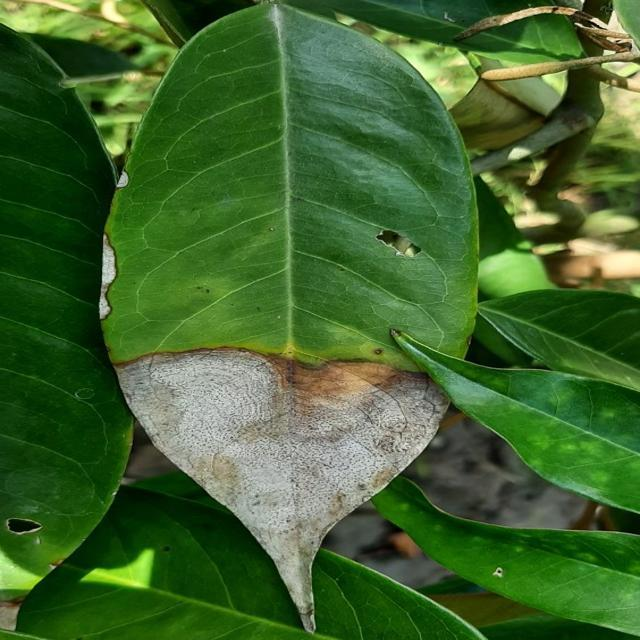Leaf Blight: (94, 1, 488, 634)
